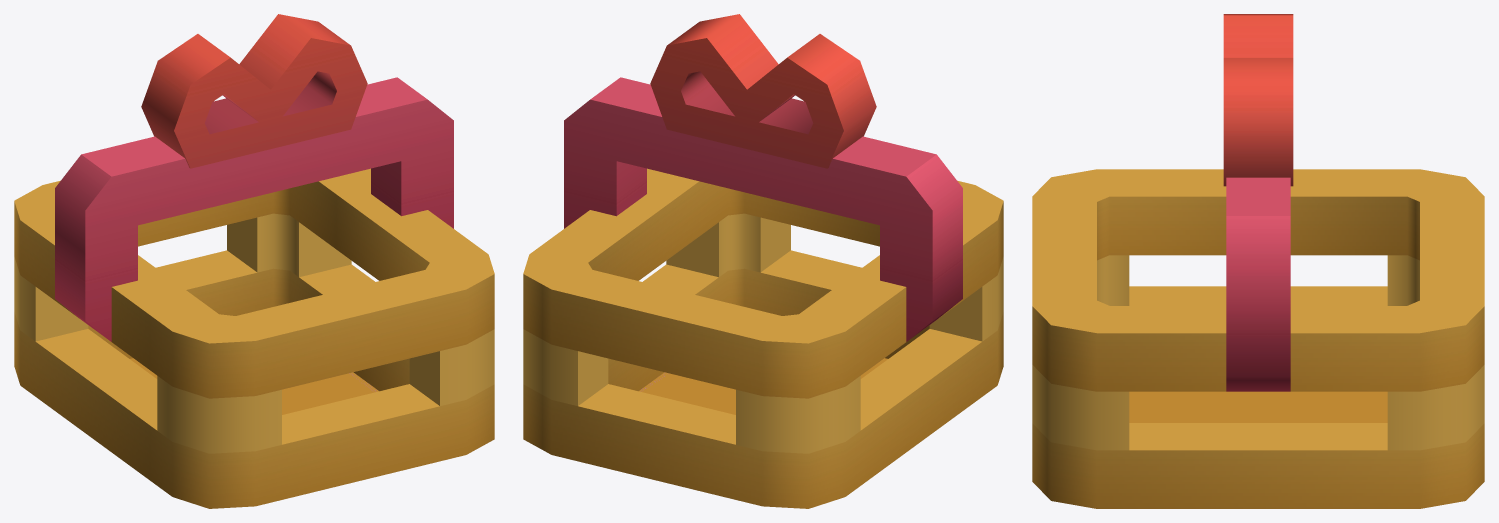
The model's file is jumbo-basket-kenney.glb.
3 renders of one model, left to right at view 1: azimuth 30°, elevation 25°; view 2: azimuth 150°, elevation 25°; view 3: azimuth 270°, elevation 25°, orthographic. The views are drawn at different scales.
Parts seen in each view (by area): view 1: basket, bow; view 2: basket, bow; view 3: basket, bow.
Boxes of the visible parts, x1,y1,x2,y2 form: basket: (14, 77, 494, 508); bow: (141, 14, 367, 168); basket: (523, 77, 1003, 508); bow: (650, 14, 876, 168); basket: (1032, 169, 1484, 508); bow: (1223, 14, 1293, 186).
Size of the model in its own units: 0.455 by 0.4325 by 0.455.
Materials: 2 (2 with a texture image).
